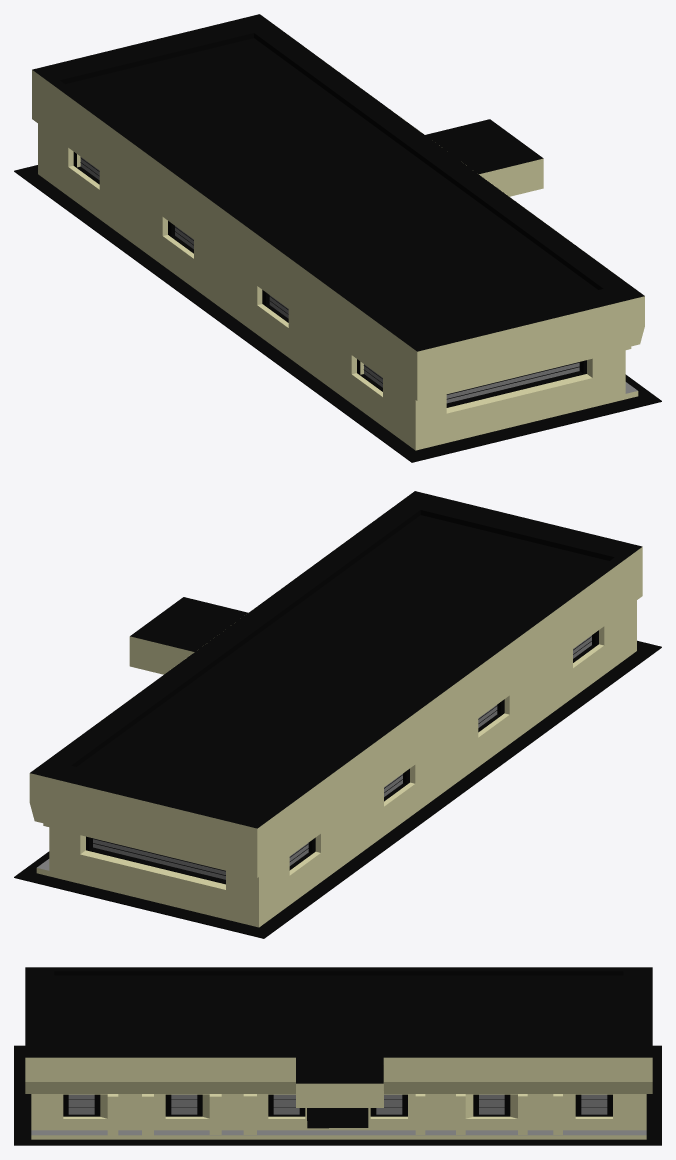
File: marianoalvarezhall.fbx
3 renders of one model, top to bottom at view 1: azimuth 30°, elevation 25°; view 2: azimuth 150°, elevation 25°; view 3: azimuth 270°, elevation 25°, orthographic. The views are drawn at different scales.
Parts seen in each view (by area): view 1: building_001, Cube; view 2: building_001, Cube; view 3: building_001, Cube.
Part boxes in pixels (x1,y1,x2,y2): building_001: (32,14,644,450); Cube: (14,165,661,462); building_001: (29,491,642,927); Cube: (14,640,661,938); building_001: (25,967,652,1139); Cube: (14,1045,661,1145).
Bounding box in the file's own units: 2728 × 881 × 6162.
